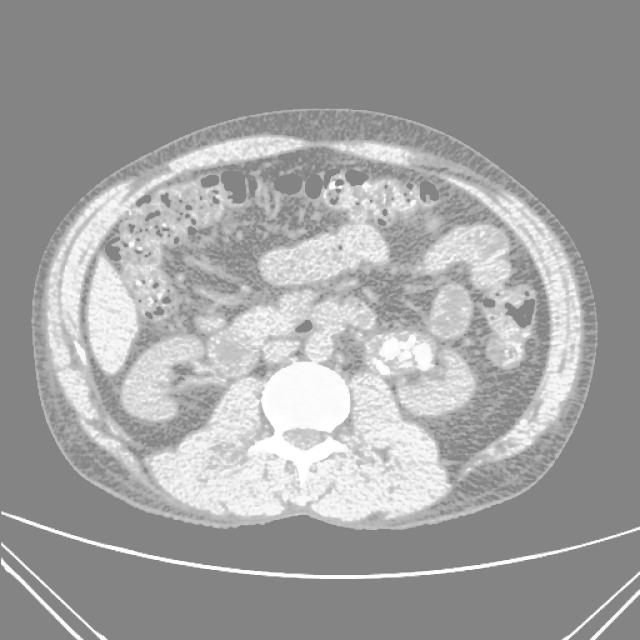STONE: (152, 136, 533, 387)
